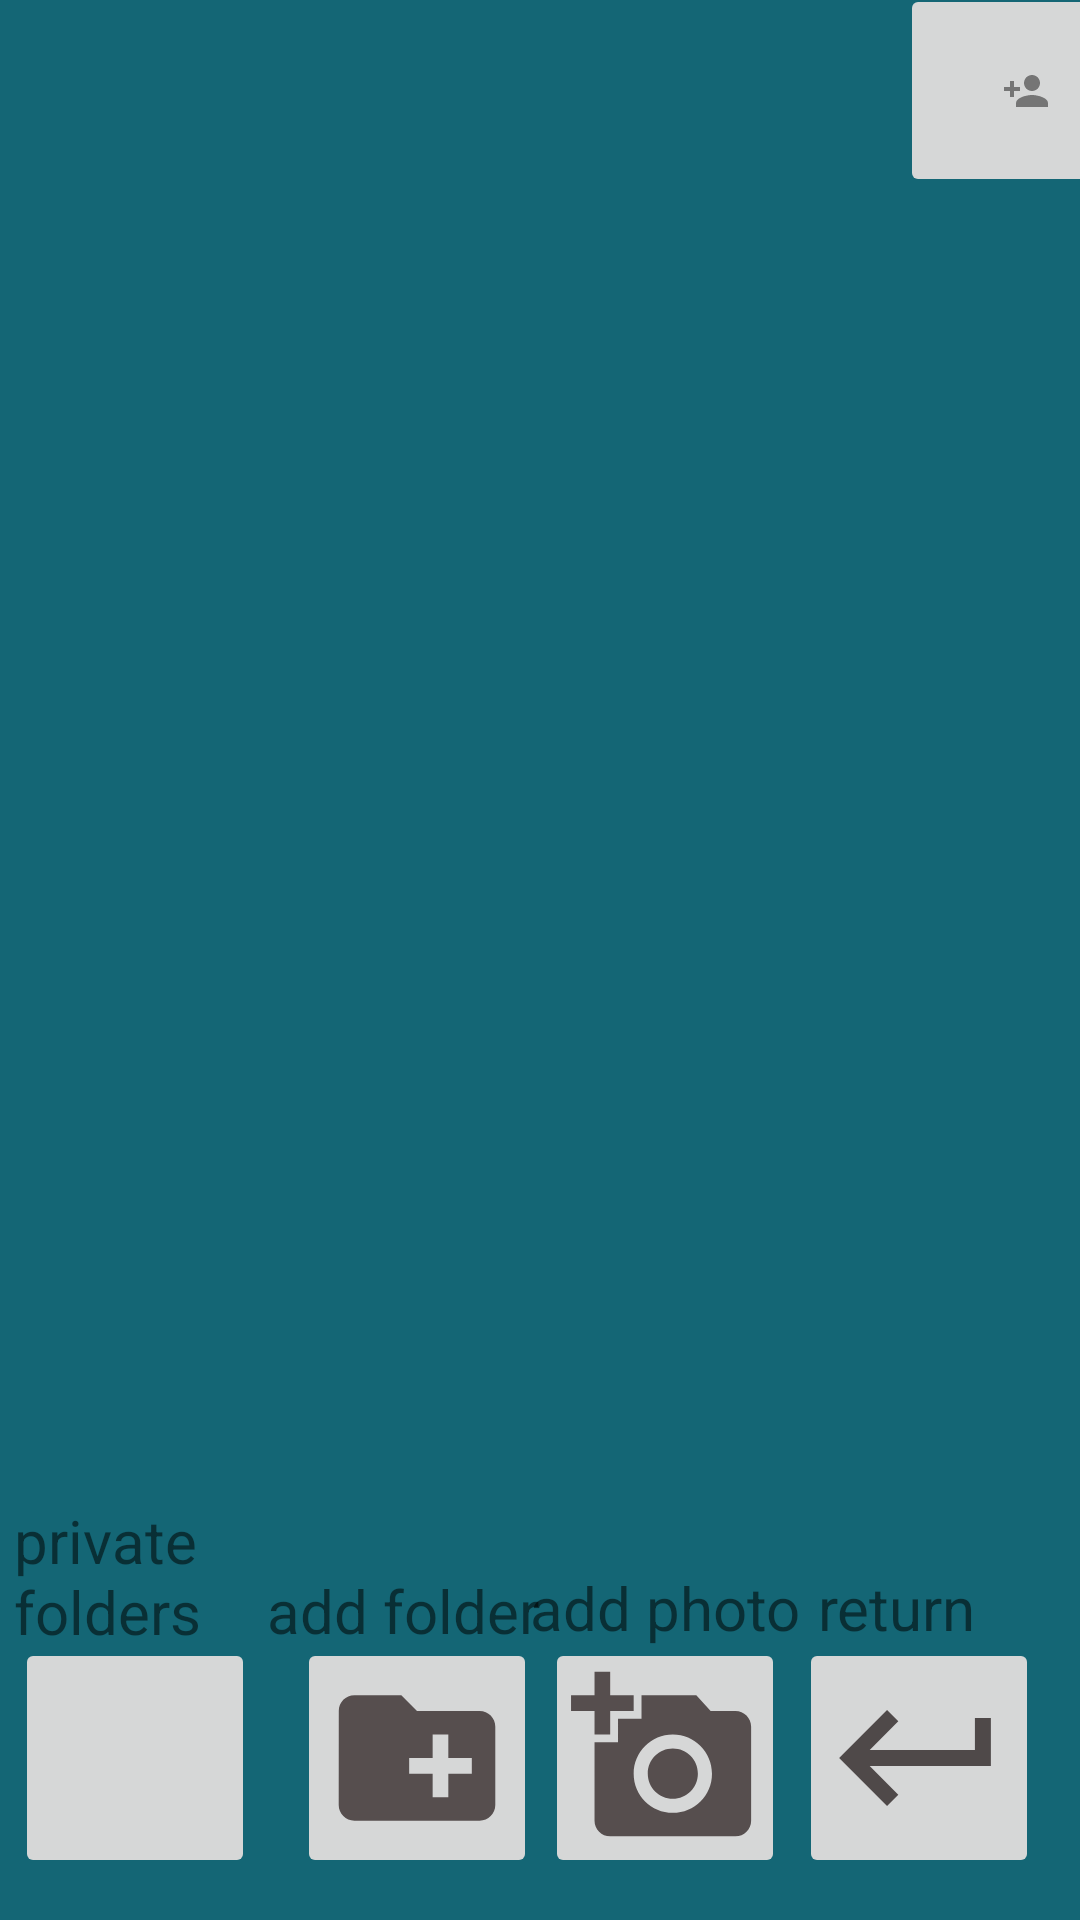

Screen size 1080 x 1920. Icon name, then its box in pixels as (x1, y1, x2, y2):
take photo: (557, 1656, 773, 1860)
